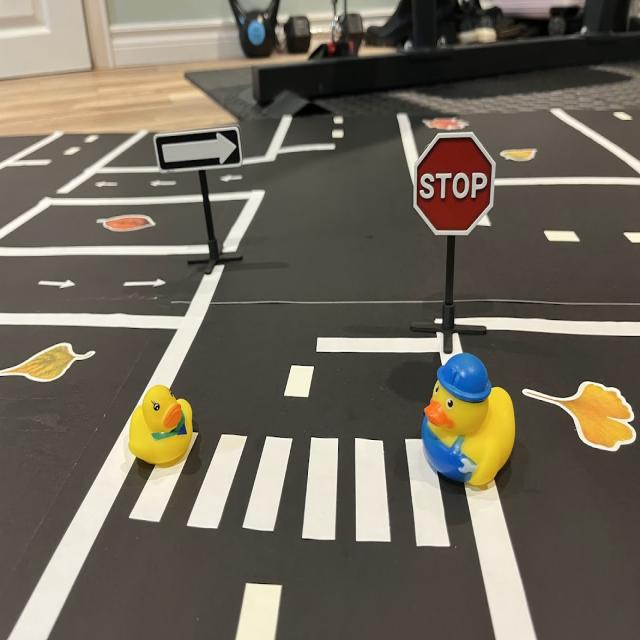duck_regular: (128, 384, 198, 472)
duck_specialty: (421, 353, 518, 491)
road_crosswalk: (122, 431, 453, 551)
road_oneway: (119, 274, 170, 295), (34, 277, 82, 295), (148, 175, 180, 191), (94, 176, 122, 193), (216, 173, 247, 185)
sign_oneway_right: (154, 126, 244, 174)
sign_stop: (416, 138, 492, 237)
